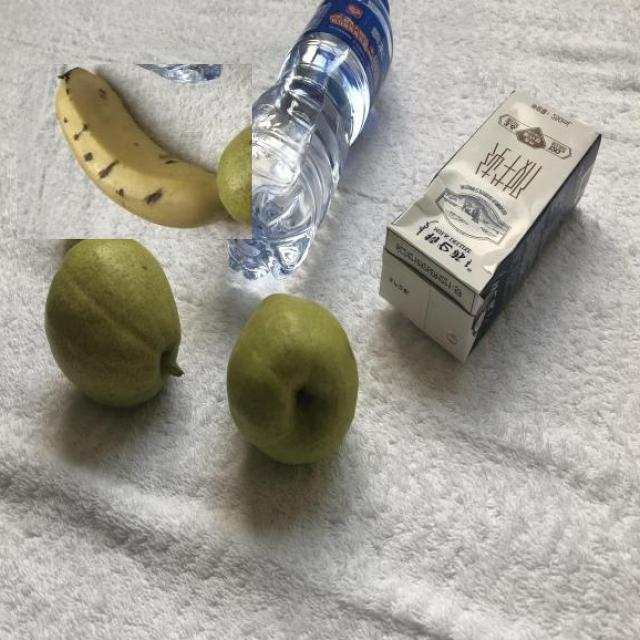Banana: (17, 64, 252, 239)
